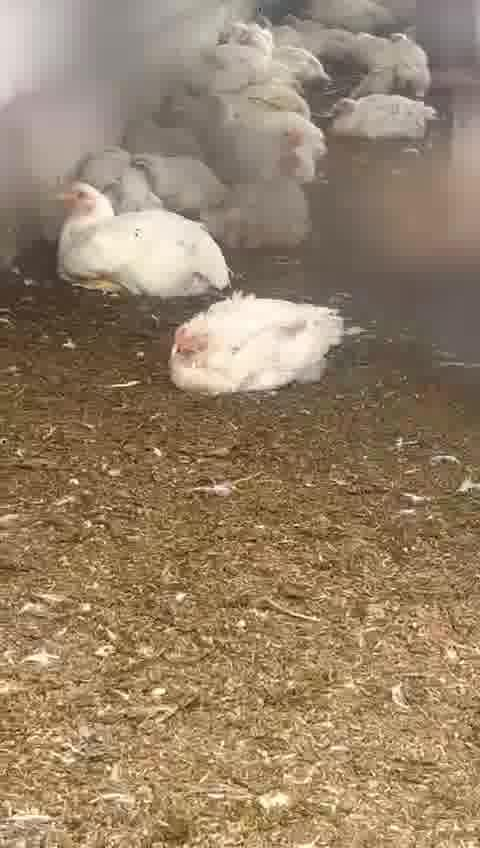AbNormal: (173, 286, 346, 400), (73, 140, 212, 219), (118, 114, 240, 164), (156, 84, 254, 133), (188, 48, 285, 94)
Normal: (48, 175, 227, 316), (199, 150, 320, 262), (227, 116, 339, 175), (318, 95, 442, 142)
